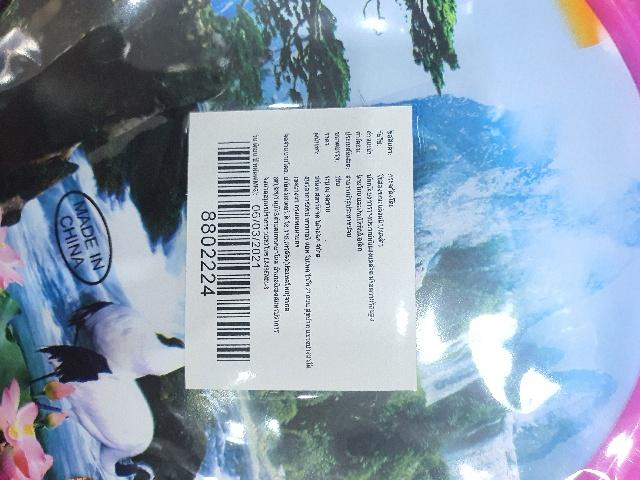Barcode: (197, 133, 252, 371)
